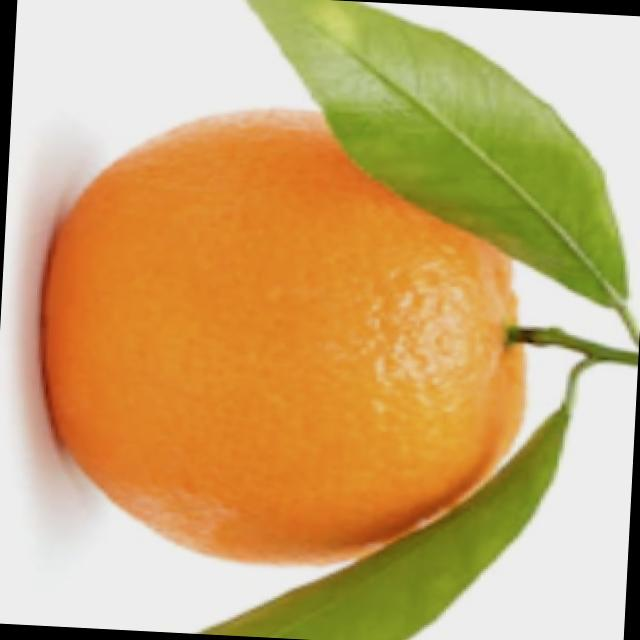orange: (25, 97, 554, 584)
